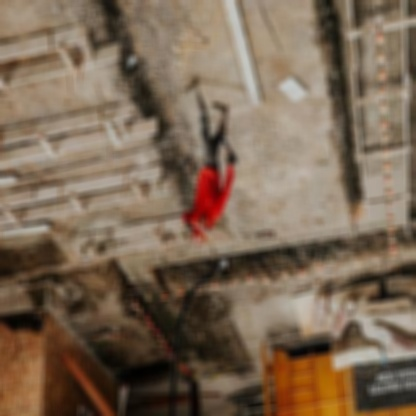red: (186, 222, 212, 246)
